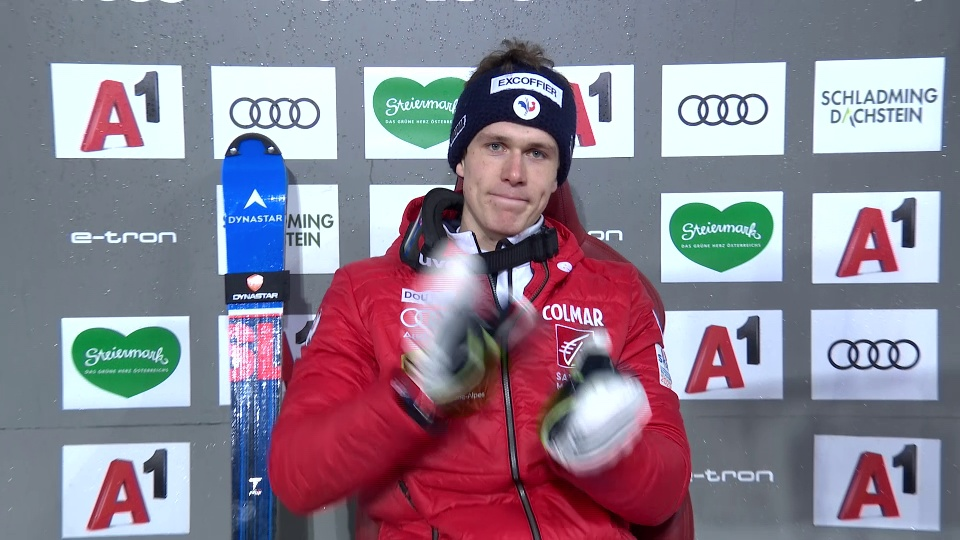a1: (79, 449, 182, 535), (67, 70, 173, 151), (830, 442, 931, 525), (828, 197, 931, 277), (679, 315, 774, 397), (559, 73, 620, 148)
audi: (230, 95, 322, 137), (679, 91, 772, 131), (829, 337, 921, 377)
etron: (64, 228, 182, 248), (674, 467, 781, 486)
schladming: (816, 77, 945, 134)
steiermark: (64, 320, 191, 403), (667, 196, 782, 270), (378, 80, 471, 138)
